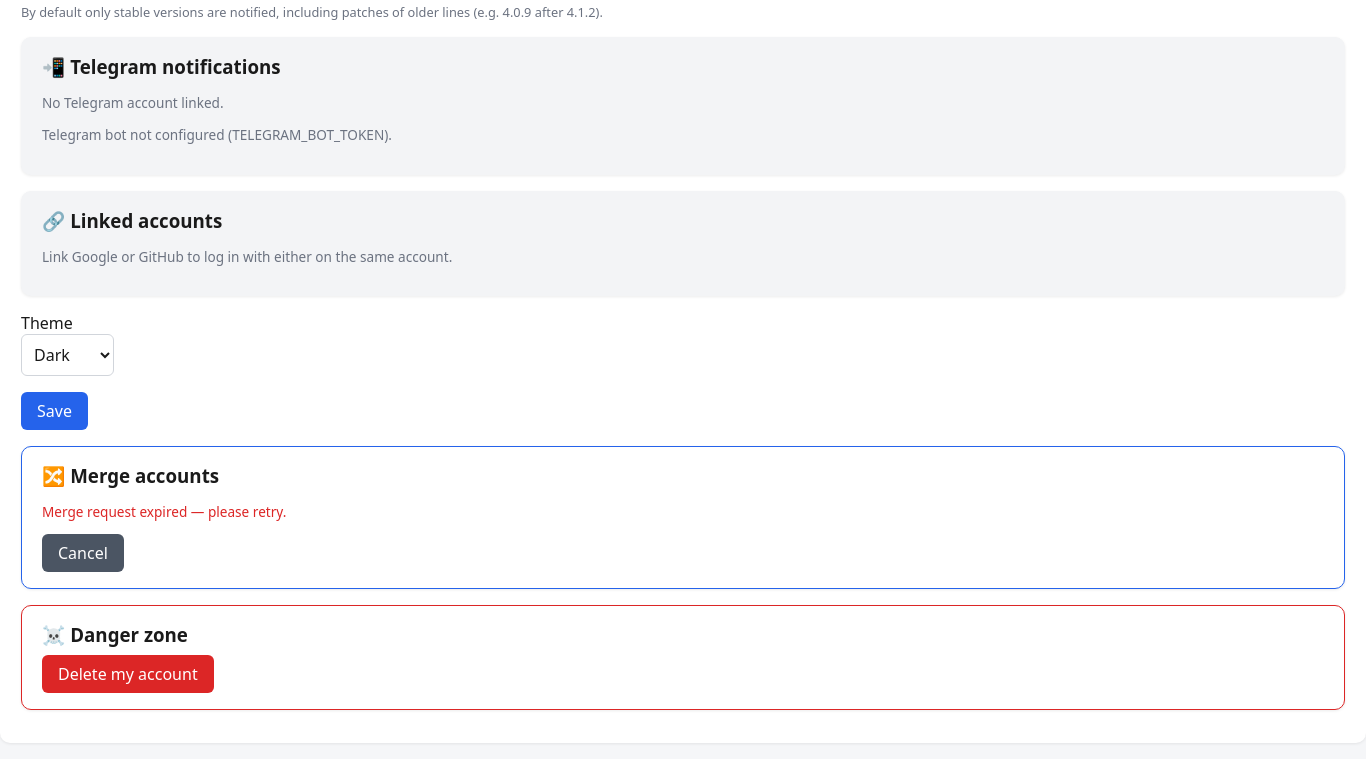
it: PreferencesComponent › OAuth link round-trip › handles an expired merge and a failed merge
(page scrolled)
Click the button "Cancel" at point(83, 553), box x1=42 y1=534 x2=124 y2=572
(page scrolled)
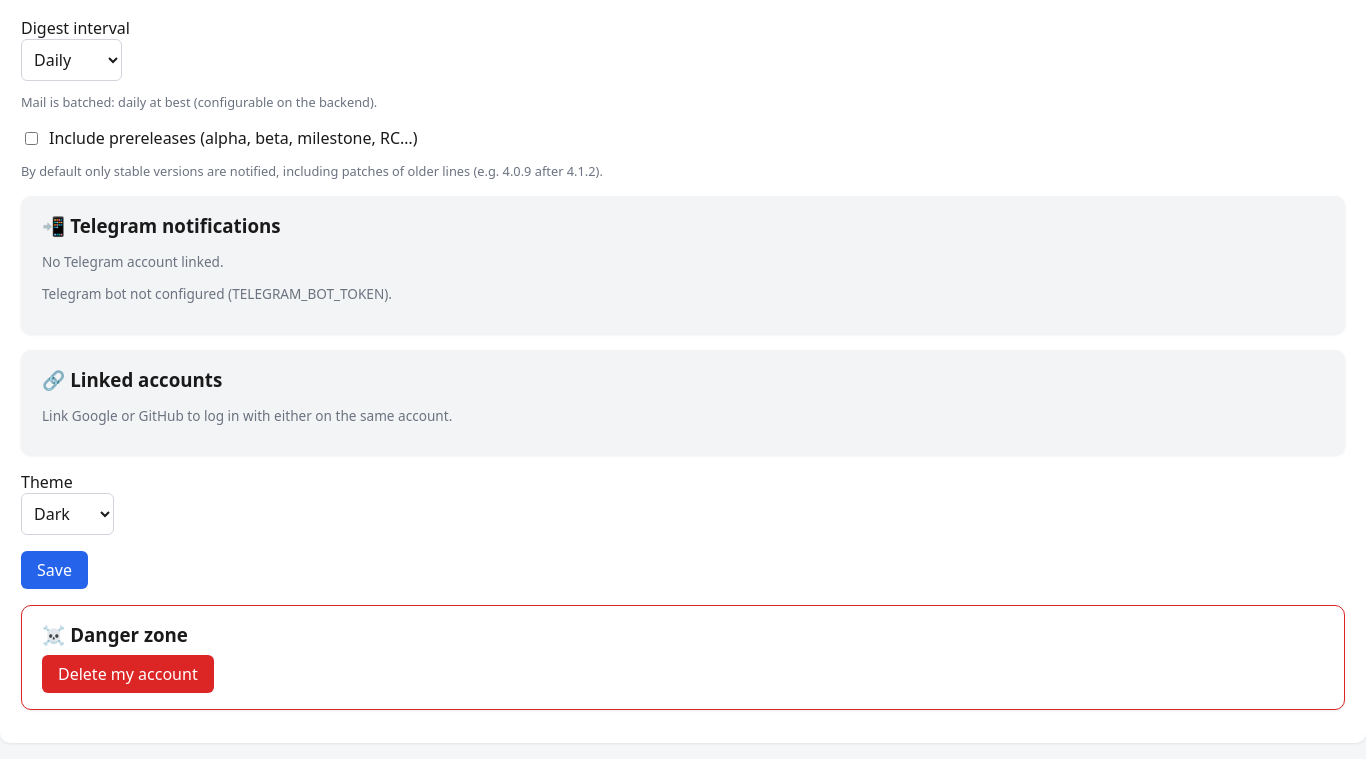
Expected: the text "Merge request expired" is gone
